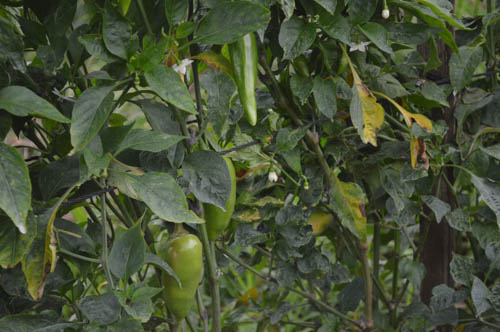ChiliPepper: (157, 233, 202, 323), (229, 34, 266, 127), (198, 155, 232, 242)
